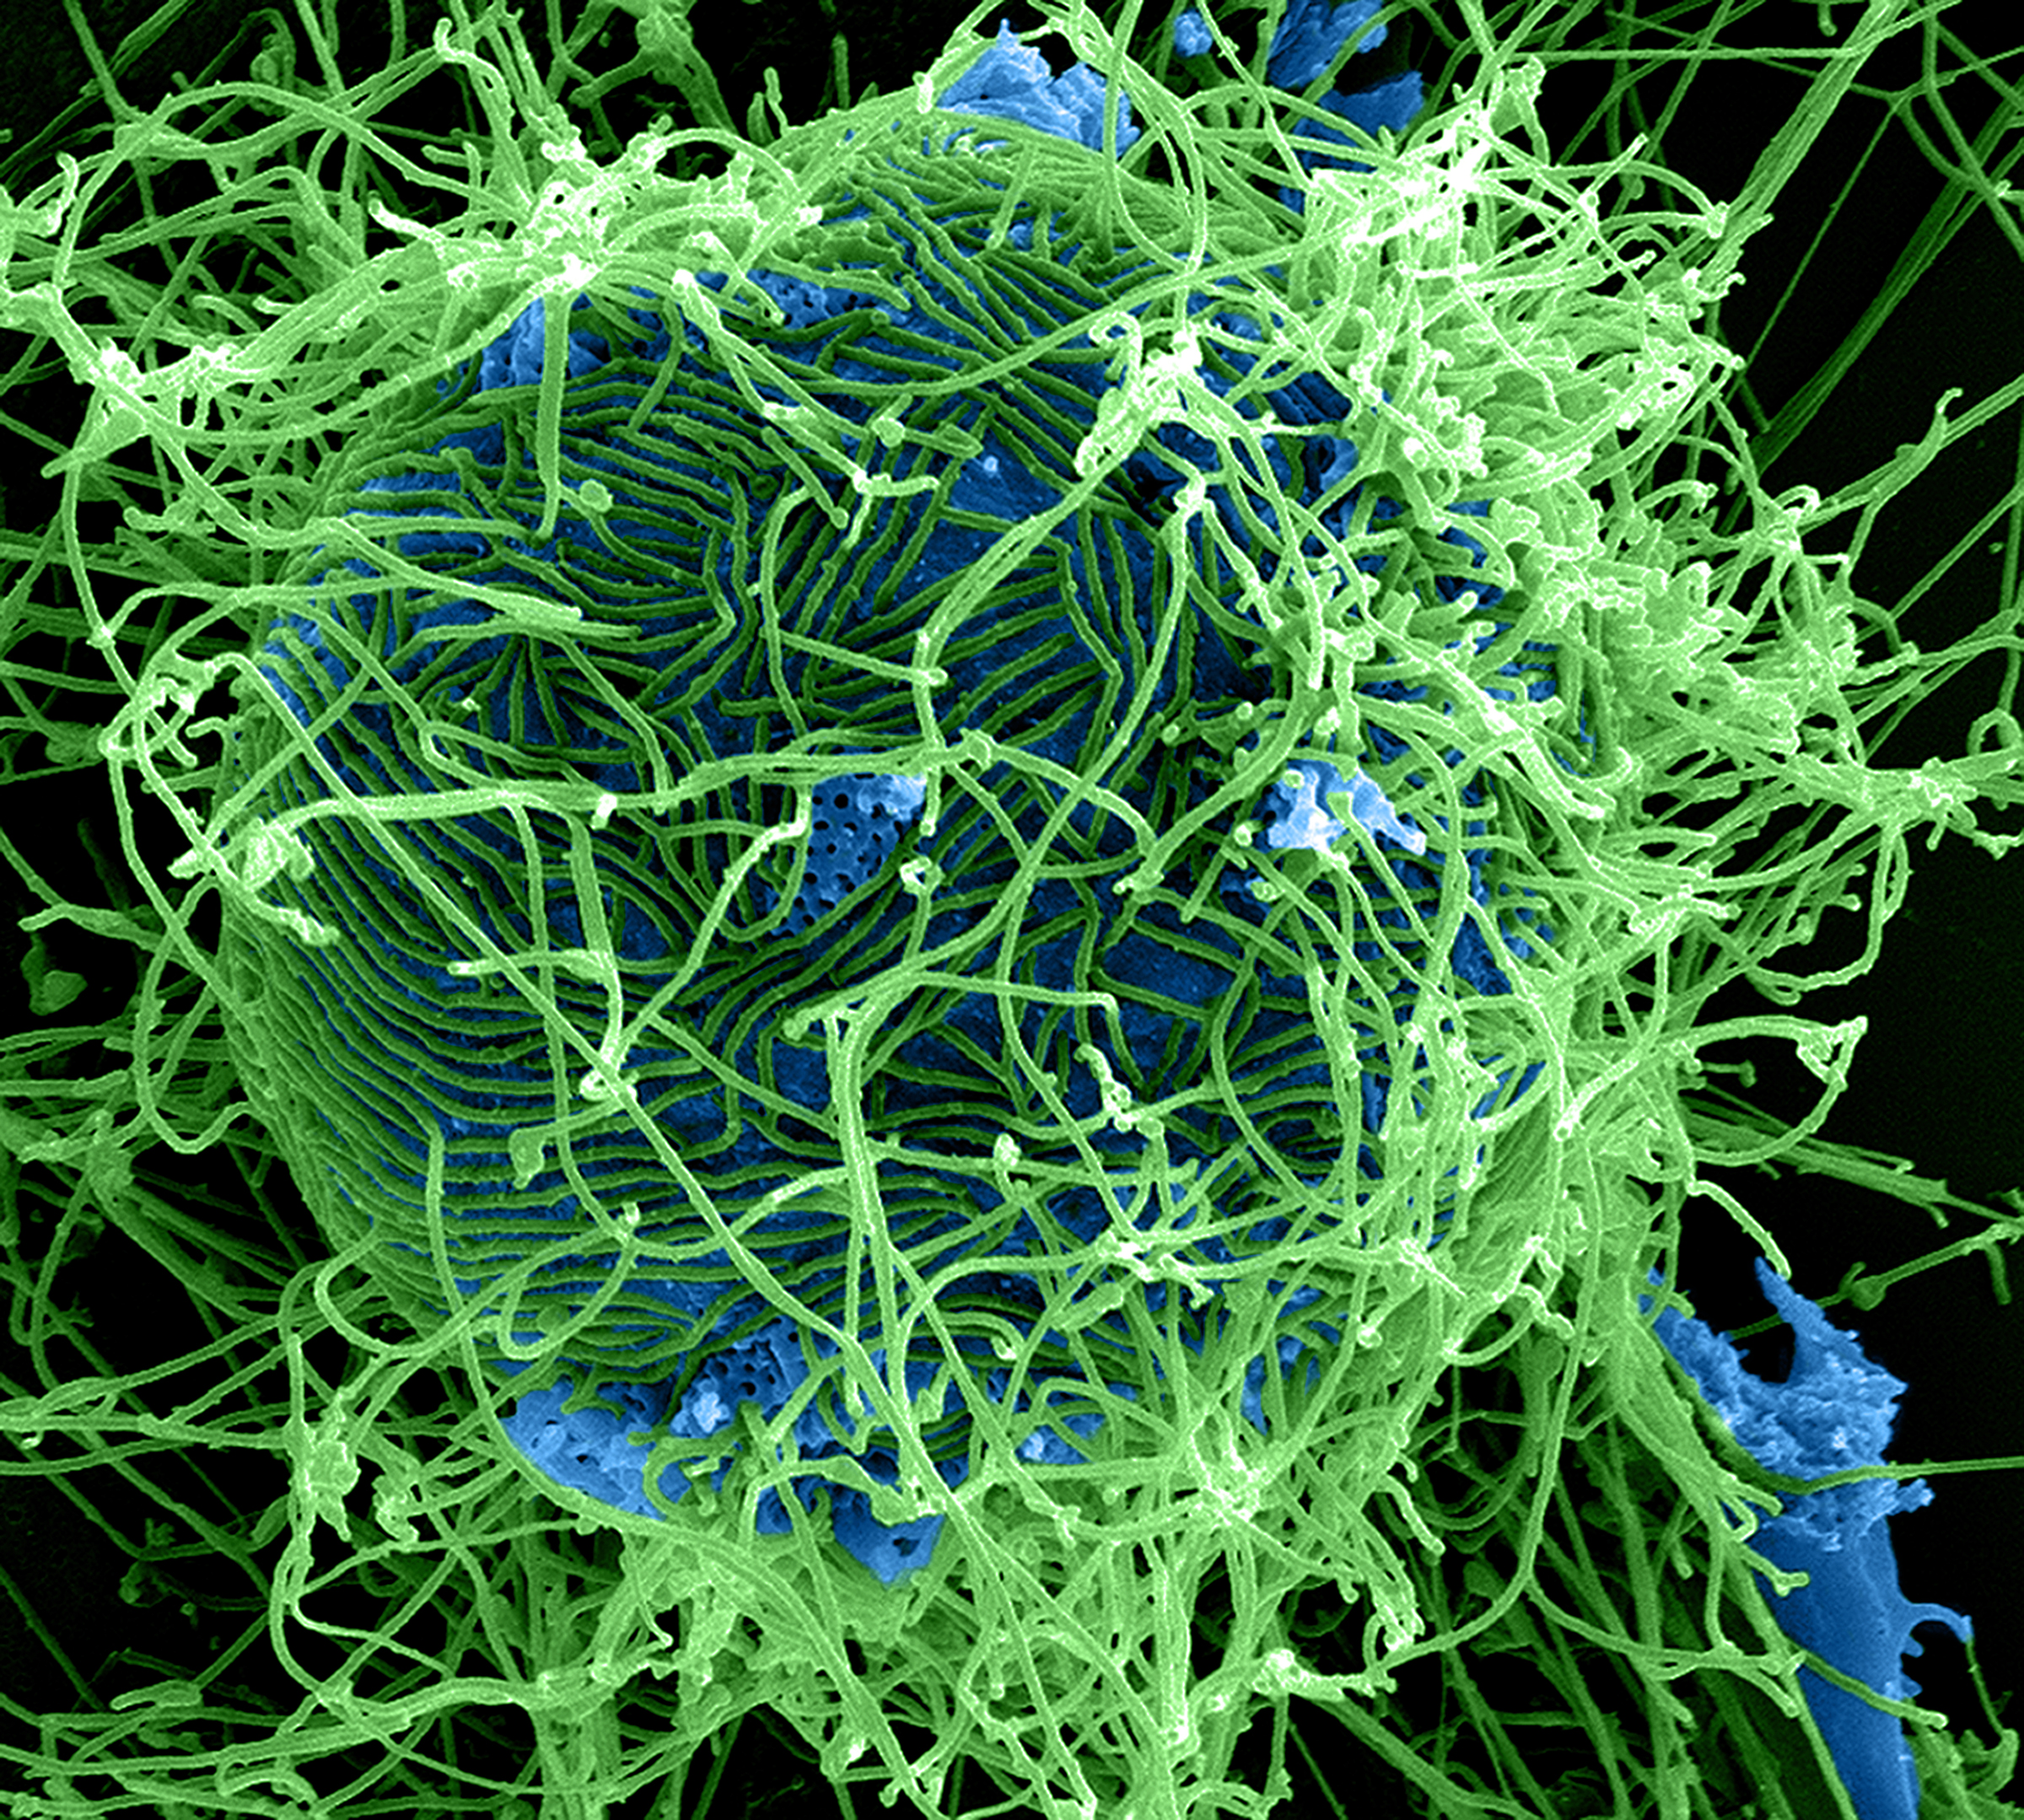COVID19: (257, 160, 1572, 1423)
